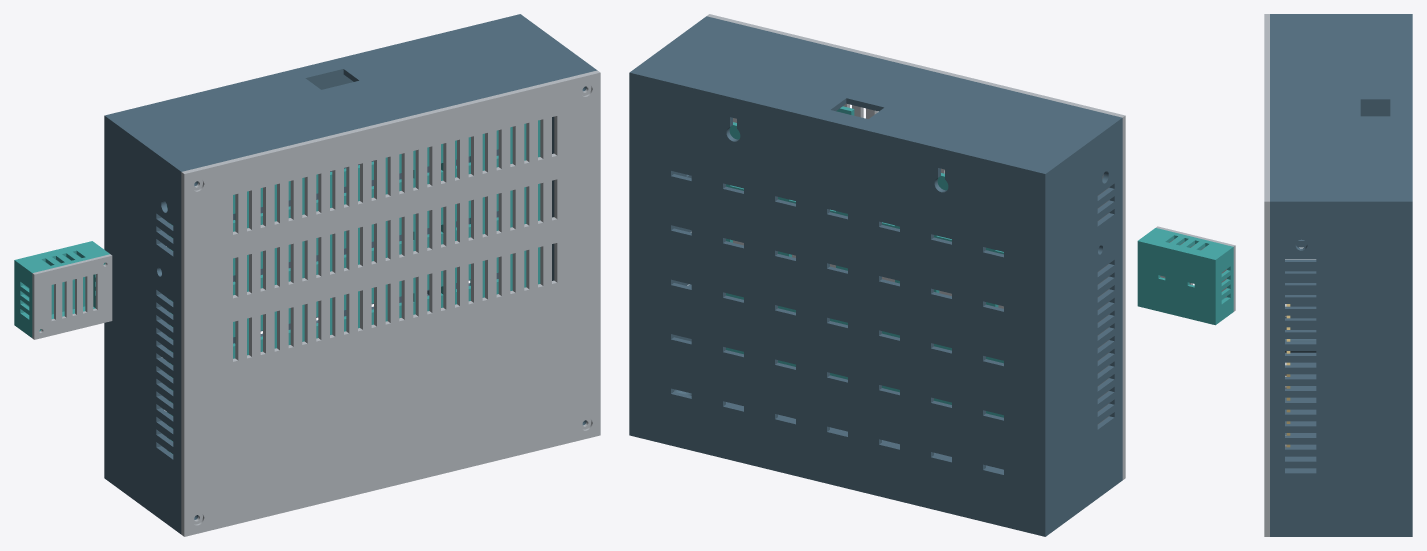
The model's file is assembly.glb.
3 renders of one model, left to right at view 1: azimuth 30°, elevation 25°; view 2: azimuth 150°, elevation 25°; view 3: azimuth 270°, elevation 25°, orthographic. The views are drawn at different scales.
Visible parts, largest first — view 1: lid, base, deck, bme680_pod_lid, bme680_pod_base; view 2: base, bme680_pod_base, lid, deck; view 3: base, lid, radar_carrier.
Part boxes in pixels (x1=…): lid: x1=181, y1=70, x2=600, y2=536; base: x1=104, y1=14, x2=597, y2=534; deck: x1=167, y1=120, x2=540, y2=454; bme680_pod_lid: x1=32, y1=254, x2=112, y2=339; bme680_pod_base: x1=14, y1=241, x2=109, y2=337; base: x1=629, y1=16, x2=1122, y2=536; bme680_pod_base: x1=1137, y1=228, x2=1233, y2=325; lid: x1=707, y1=14, x2=1125, y2=479; deck: x1=726, y1=106, x2=1003, y2=417; base: x1=1270, y1=14, x2=1412, y2=536; lid: x1=1264, y1=14, x2=1286, y2=536; radar_carrier: x1=1286, y1=304, x2=1290, y2=447.
Bounding box in the file's own units: 0.315 × 0.2 × 0.08.
